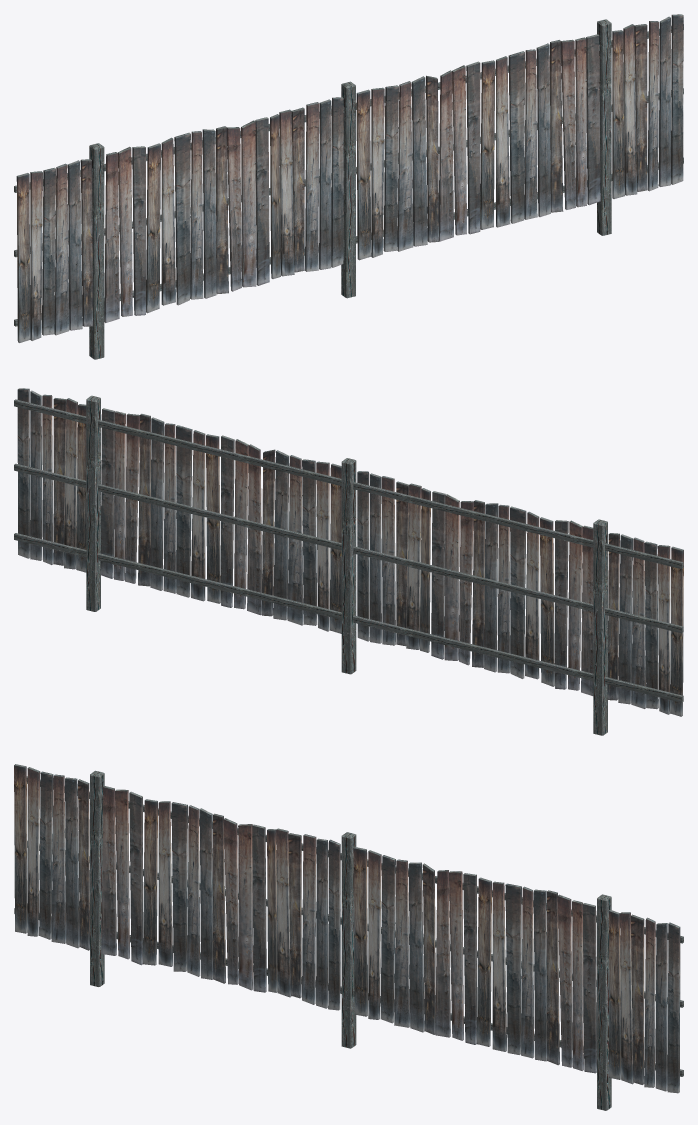
Rendered from WoodFenceBigLong.FBX.
3 views of the same model, one above another, from view 1: azimuth 30°, elevation 25°; view 2: azimuth 150°, elevation 25°; view 3: azimuth 330°, elevation 25° (orthographic).
Parts seen in each view (by area): view 1: WoodFenceBigLong; view 2: WoodFenceBigLong; view 3: WoodFenceBigLong.
Part boxes in pixels (left/top/right/bottom): WoodFenceBigLong: left=14, top=14, right=683, bottom=359; WoodFenceBigLong: left=14, top=388, right=683, bottom=735; WoodFenceBigLong: left=14, top=764, right=683, bottom=1110.
Size of the model in its own units: 120 by 36.24 by 1.84.
1 material, 1 textured.
